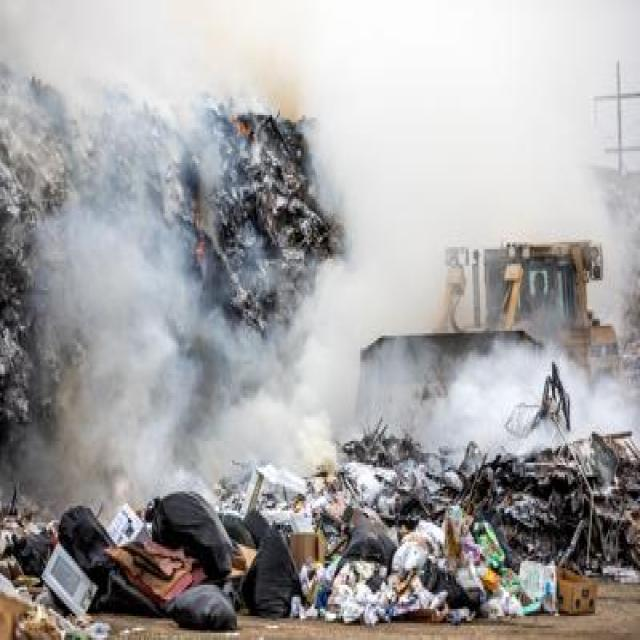Smoke: (263, 0, 640, 473), (0, 0, 259, 521)
